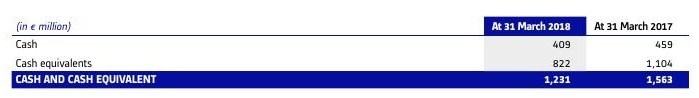table: (0, 0, 699, 98)
